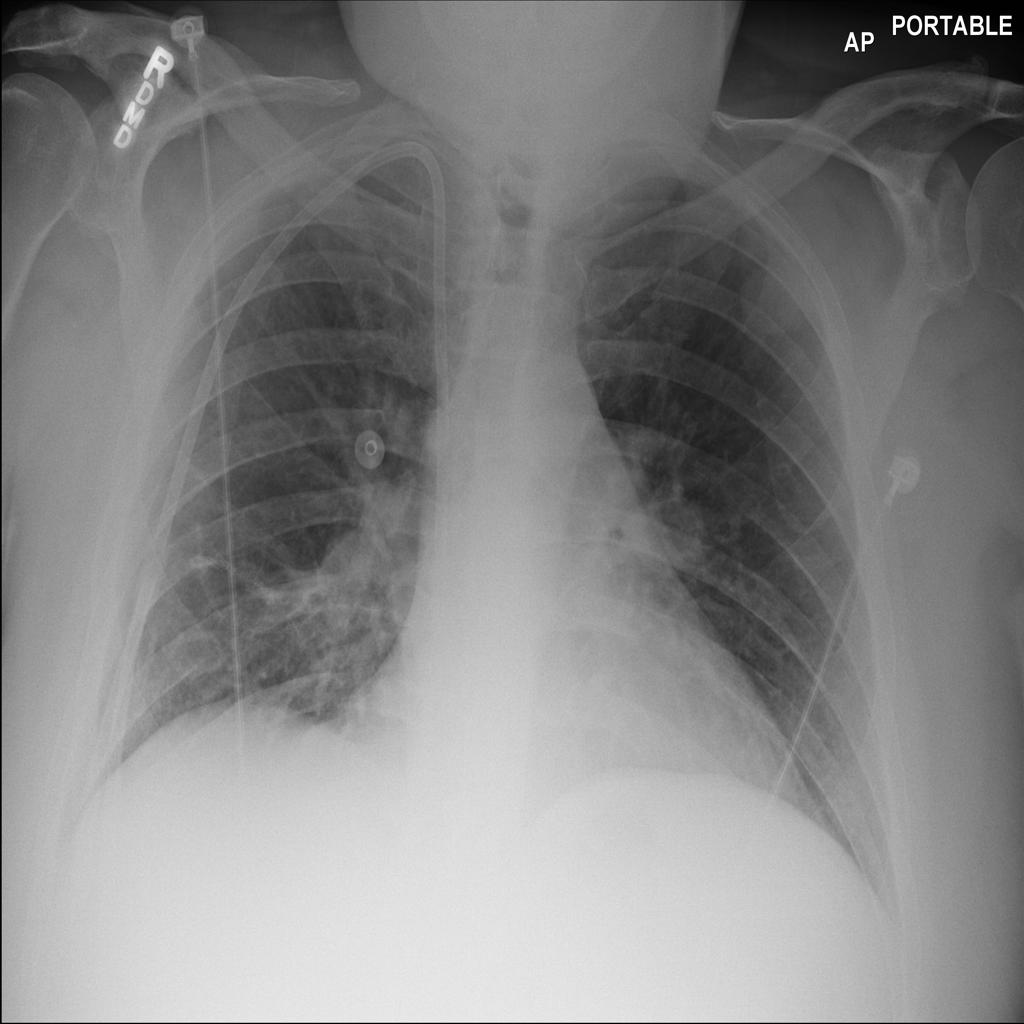nodule: (612, 478, 717, 598), (724, 242, 825, 355)
